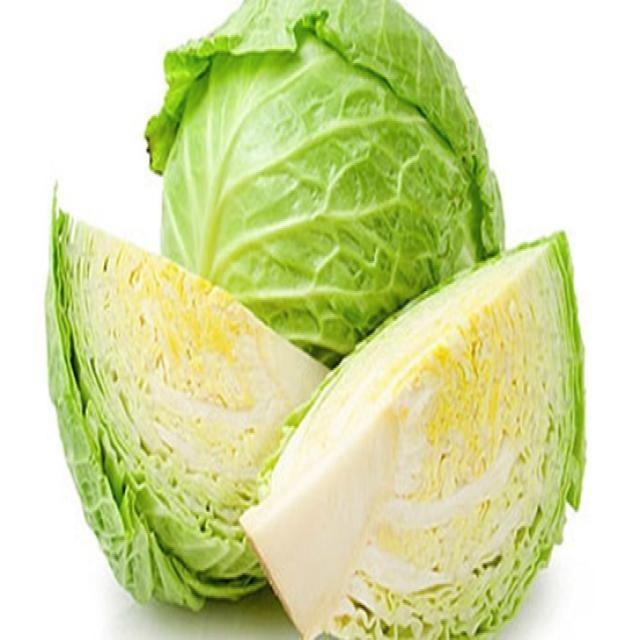cabbage: (237, 239, 578, 639), (156, 0, 506, 377), (44, 216, 334, 610)
